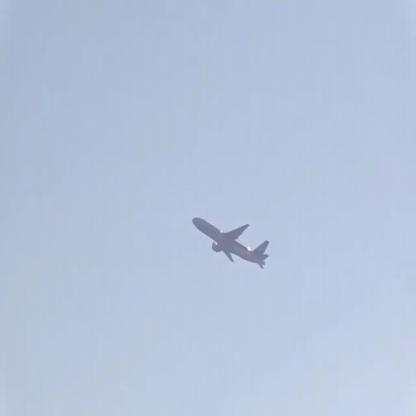CIV_Plane: (190, 206, 271, 270)
